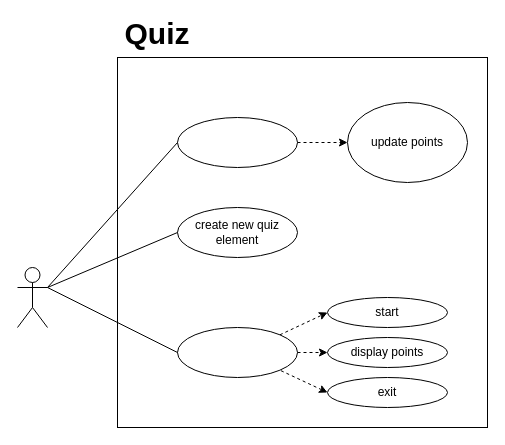
Some shapes in this 505 by 445 pixel diagram are drawn without their labels. Each missing label, with the centre of its shape:
"answer question" goes at (x=237, y=142).
"menus" goes at (x=237, y=352).
"user" goes at (x=32, y=297).
